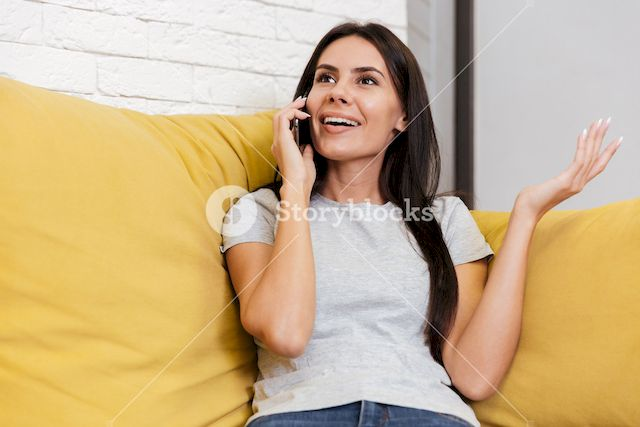phone: (289, 95, 309, 154)
talk: (271, 58, 393, 187)
